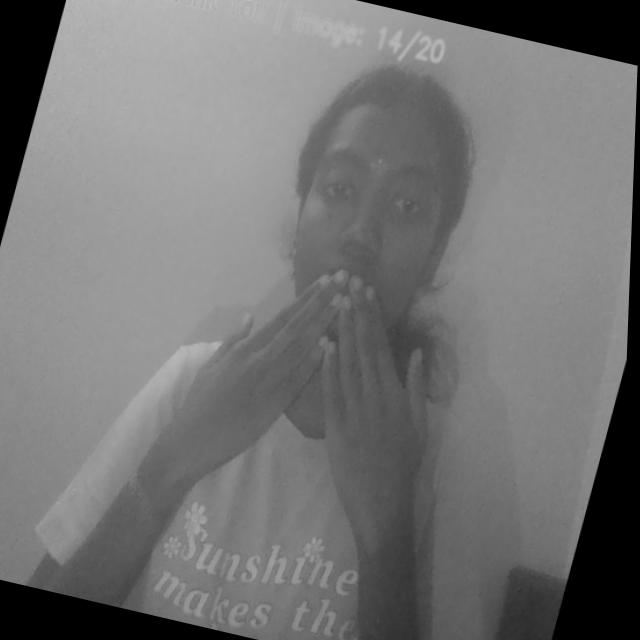Thank You: (121, 230, 461, 568)
